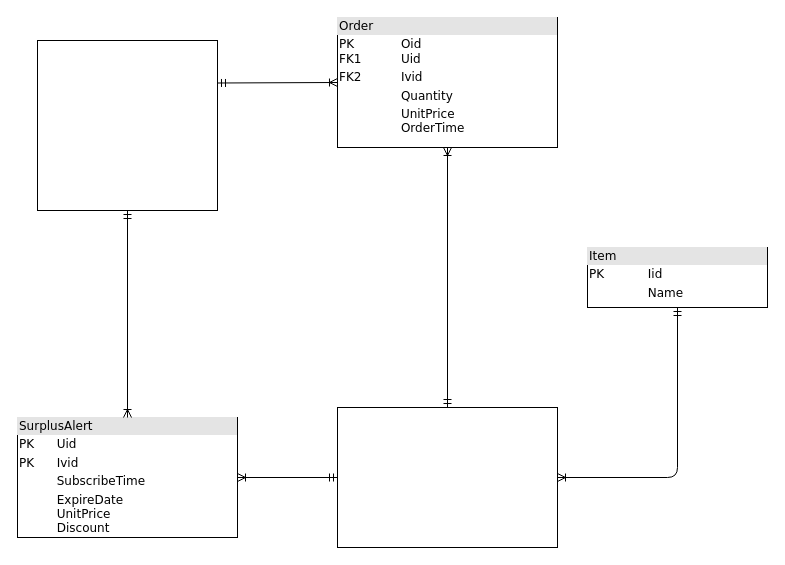
This 785x565 diagram has some shape labels left out. The shapes that lost their labels are listed below. From the top down, each one's centre as x and y in pixels, then its label:
At point (127, 125): "User PK Uid Name Password Email Telephone Location FoodPrefer Type Role".
At point (447, 477): "Inventory PK Ivid FK1 Iid Quantity ExpireDate IsSurplus UnitPrice Discount".
